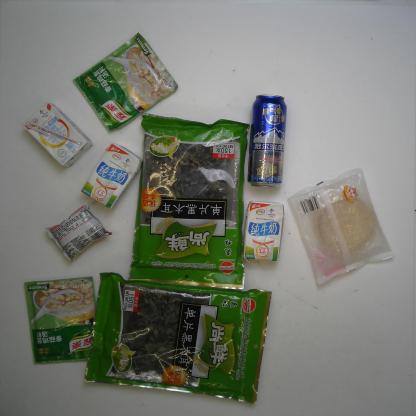Alcohol: (246, 93, 288, 189)
Dessert: (286, 166, 395, 287), (43, 198, 113, 264)
Dried Food: (82, 272, 272, 405), (126, 110, 250, 292)
Milk: (21, 101, 94, 169), (80, 141, 142, 210), (240, 199, 286, 263)
Seasoner: (72, 31, 179, 134), (24, 275, 97, 365)
